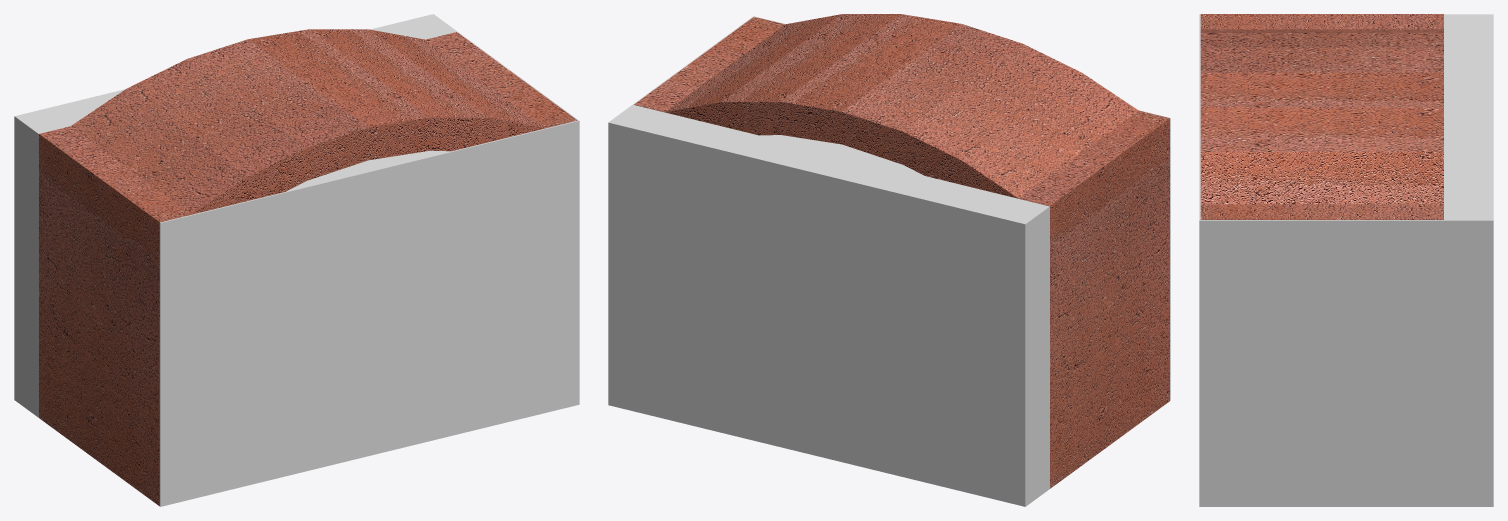
Rendered from BLCR26H.glb.
3 renders of one model, left to right at view 1: azimuth 30°, elevation 25°; view 2: azimuth 150°, elevation 25°; view 3: azimuth 270°, elevation 25°, orthographic.
Parts seen in each view (by area): view 1: _bb.002, clay.001; view 2: _bb.002, clay.001; view 3: _bb.002, clay.001.
Part boxes in pixels (bbox=[...]): _bb.002: bbox=[14, 14, 579, 506]; clay.001: bbox=[39, 29, 577, 505]; _bb.002: bbox=[608, 16, 1170, 506]; clay.001: bbox=[634, 14, 1169, 488]; _bb.002: bbox=[1199, 14, 1493, 506]; clay.001: bbox=[1200, 14, 1443, 219].
Bounding box in the file's own units: 0.4012 × 0.3 × 0.242.
1 material, 1 textured.
